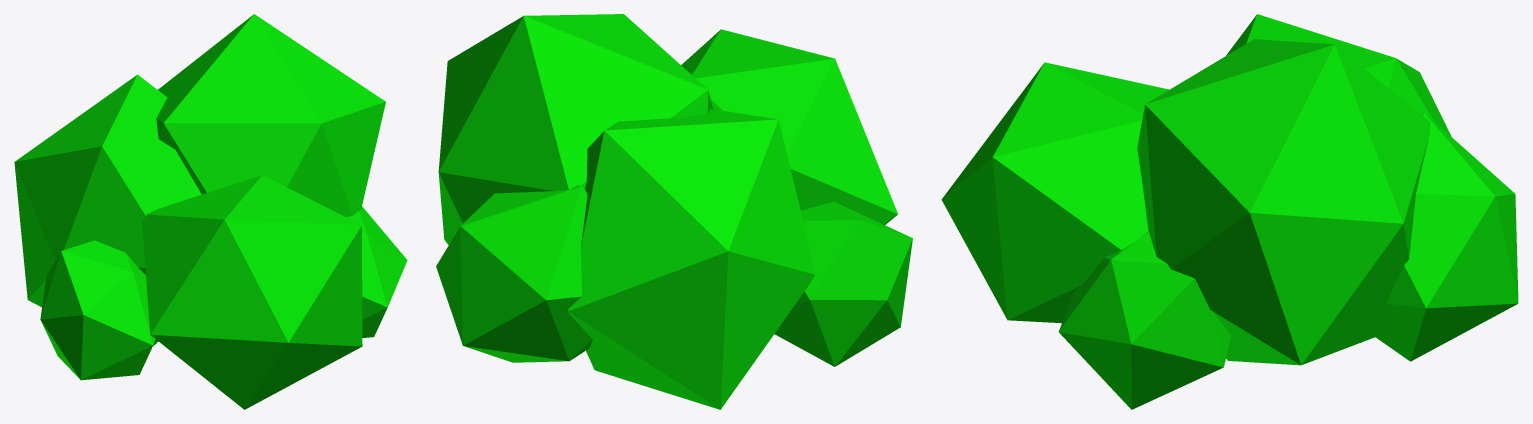
File: Bush 3.fbx
The picture shows the model from 3 angles, left to right: view 1: azimuth 30°, elevation 25°; view 2: azimuth 150°, elevation 25°; view 3: azimuth 270°, elevation 25°; orthographic projection. The views are drawn at different scales.
Parts seen in each view (by area): view 1: Bushes2:sphere_object1, Bushes2:sphere_object2, Bushes2:sphere_object3, Bushes2:sphere_object4, Bushes2:sphere_object6; view 2: Bushes2:sphere_object3, Bushes2:sphere_object2, Bushes2:sphere_object5, Bushes2:sphere_object1, Bushes2:sphere_object4; view 3: Bushes2:sphere_object2, Bushes2:sphere_object1, Bushes2:sphere_object5, Bushes2:sphere_object6, Bushes2:sphere_object3.
Boxes of the visible parts, x1=… form: Bushes2:sphere_object1: x1=142, y1=175, x2=362, y2=409; Bushes2:sphere_object2: x1=156, y1=14, x2=385, y2=216; Bushes2:sphere_object3: x1=14, y1=74, x2=201, y2=345; Bushes2:sphere_object4: x1=40, y1=240, x2=155, y2=380; Bushes2:sphere_object6: x1=346, y1=206, x2=407, y2=337; Bushes2:sphere_object3: x1=567, y1=109, x2=815, y2=409; Bushes2:sphere_object2: x1=438, y1=14, x2=712, y2=244; Bushes2:sphere_object5: x1=436, y1=185, x2=592, y2=362; Bushes2:sphere_object1: x1=681, y1=29, x2=898, y2=224; Bushes2:sphere_object4: x1=774, y1=202, x2=912, y2=366; Bushes2:sphere_object2: x1=1137, y1=39, x2=1430, y2=365; Bushes2:sphere_object1: x1=941, y1=62, x2=1169, y2=323; Bushes2:sphere_object5: x1=1375, y1=113, x2=1518, y2=361; Bushes2:sphere_object6: x1=1058, y1=231, x2=1231, y2=409; Bushes2:sphere_object3: x1=1226, y1=14, x2=1451, y2=342.
Size of the model in its own units: 8.7 by 6.57 by 9.71.
